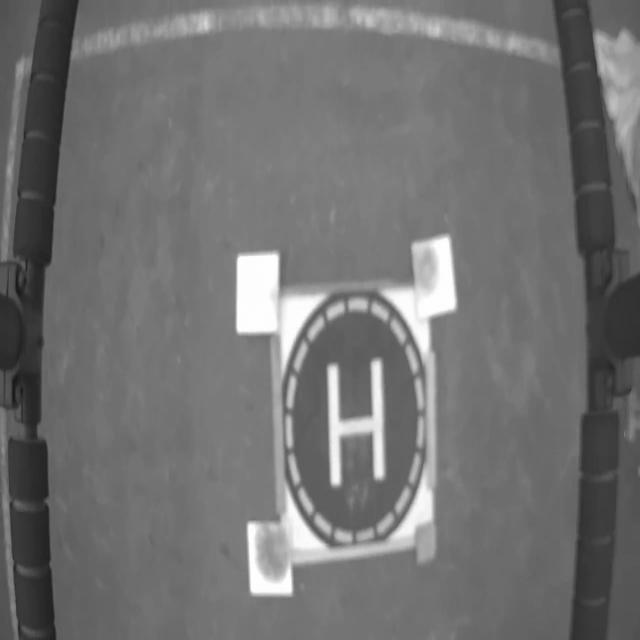Helipad: (326, 356, 386, 491)
